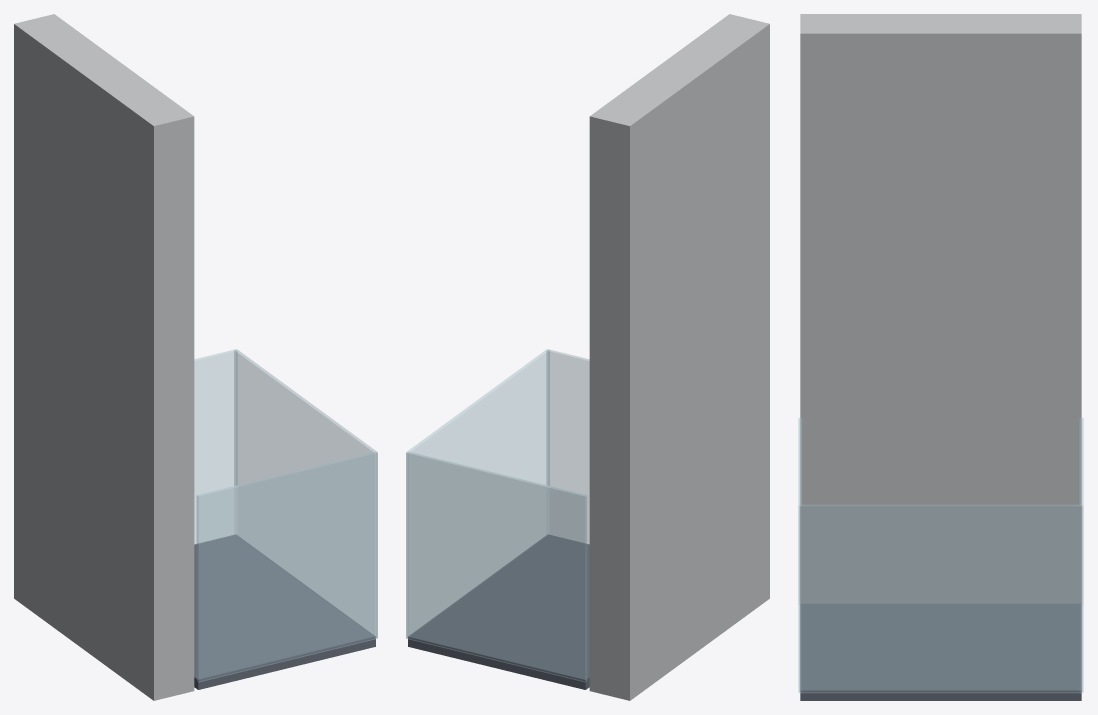
The model's file is circulation.lift.platform.glb.
The picture shows the model from 3 angles, left to right: view 1: azimuth 30°, elevation 25°; view 2: azimuth 150°, elevation 25°; view 3: azimuth 270°, elevation 25°; orthographic projection.
Parts seen in each view (by area): view 1: main__aluminium, main__glass, main__steel_painted; view 2: main__aluminium, main__glass, main__steel_painted; view 3: main__aluminium, main__glass, main__steel_painted.
Part boxes in pixels (x1=…): main__aluminium: x1=14, y1=14, x2=194, y2=700; main__glass: x1=194, y1=349, x2=377, y2=681; main__steel_painted: x1=194, y1=534, x2=375, y2=689; main__aluminium: x1=589, y1=14, x2=769, y2=700; main__glass: x1=406, y1=349, x2=589, y2=681; main__steel_painted: x1=408, y1=534, x2=589, y2=689; main__aluminium: x1=800, y1=14, x2=1081, y2=603; main__glass: x1=798, y1=418, x2=1083, y2=692; main__steel_painted: x1=800, y1=603, x2=1081, y2=700.
Size of the model in its own units: 1.38 by 3.4 by 1.52.
